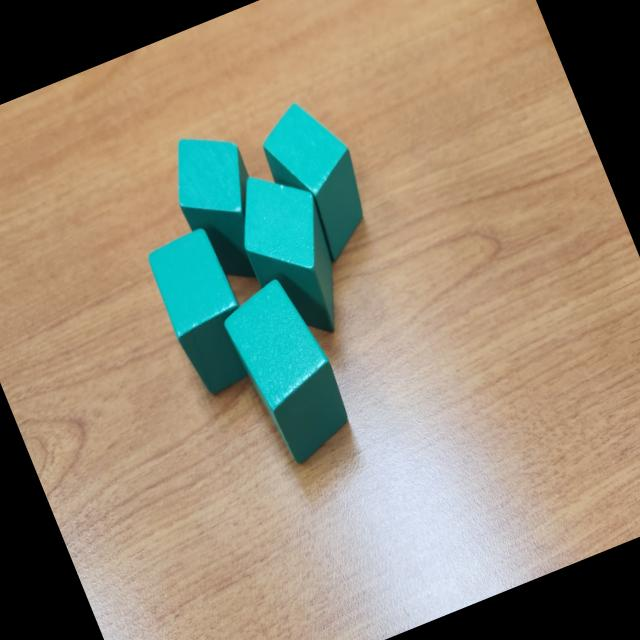green: (215, 269, 362, 470), (219, 155, 364, 351), (250, 91, 386, 270), (156, 117, 286, 294), (140, 225, 268, 402)
